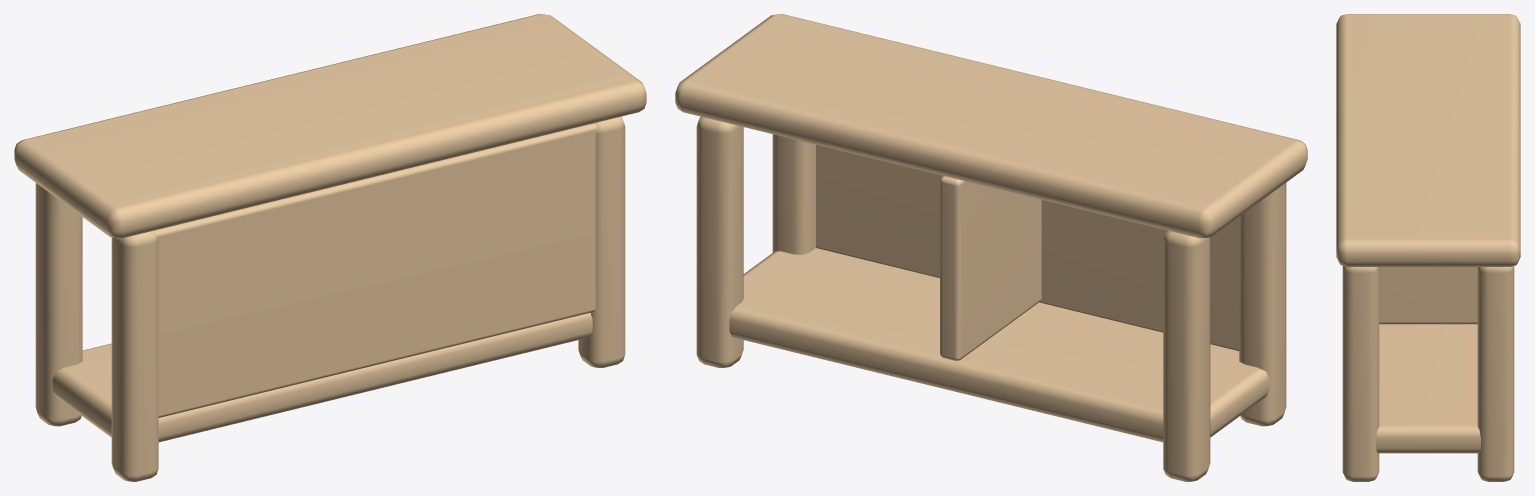
The model's file is shelf_wood.glb.
The picture shows the model from 3 angles, left to right: view 1: azimuth 30°, elevation 25°; view 2: azimuth 150°, elevation 25°; view 3: azimuth 270°, elevation 25°; orthographic projection. The views are drawn at different scales.
Parts seen in each view (by area): view 1: Body; view 2: Body; view 3: Body.
Part boxes in pixels (x1,y1,x2,y2): Body: [14, 14, 646, 481]; Body: [675, 14, 1307, 481]; Body: [1336, 14, 1520, 481].
Size of the model in its own units: 1.8 by 0.9 by 0.6.
1 material, 1 textured.
